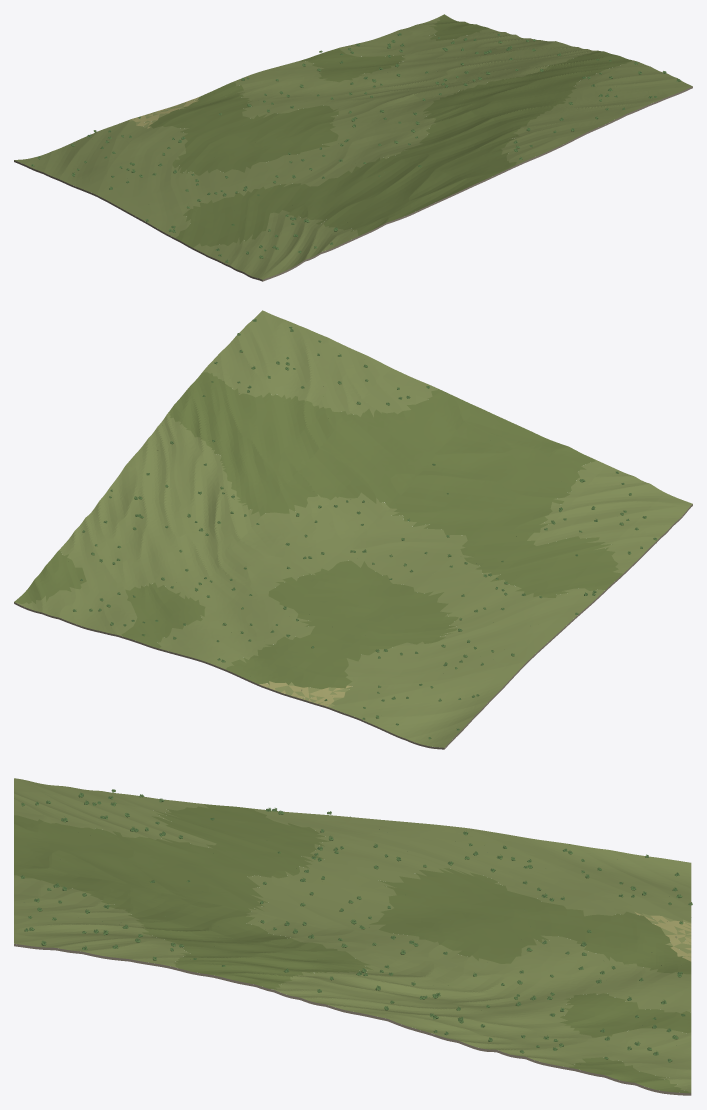
The model's file is parca_+3_-5-yakin.glb.
The picture shows the model from 3 angles, top to bottom: view 1: azimuth 30°, elevation 25°; view 2: azimuth 150°, elevation 25°; view 3: azimuth 270°, elevation 25°; orthographic projection. The views are drawn at different scales.
Parts seen in each view (by area): view 1: parca_+3_-5_arazi, parca_+3_-5_bitkiler; view 2: parca_+3_-5_arazi, parca_+3_-5_bitkiler; view 3: parca_+3_-5_arazi, parca_+3_-5_bitkiler.
Part boxes in pixels (x1=…): parca_+3_-5_arazi: x1=14, y1=14, x2=692, y2=281; parca_+3_-5_bitkiler: x1=31, y1=33, x2=680, y2=262; parca_+3_-5_arazi: x1=14, y1=310, x2=692, y2=749; parca_+3_-5_bitkiler: x1=73, y1=319, x2=657, y2=739; parca_+3_-5_arazi: x1=14, y1=778, x2=691, y2=1095; parca_+3_-5_bitkiler: x1=20, y1=789, x2=692, y2=1064.
Bounding box in the file's own units: 1003 × 345 × 1002.
